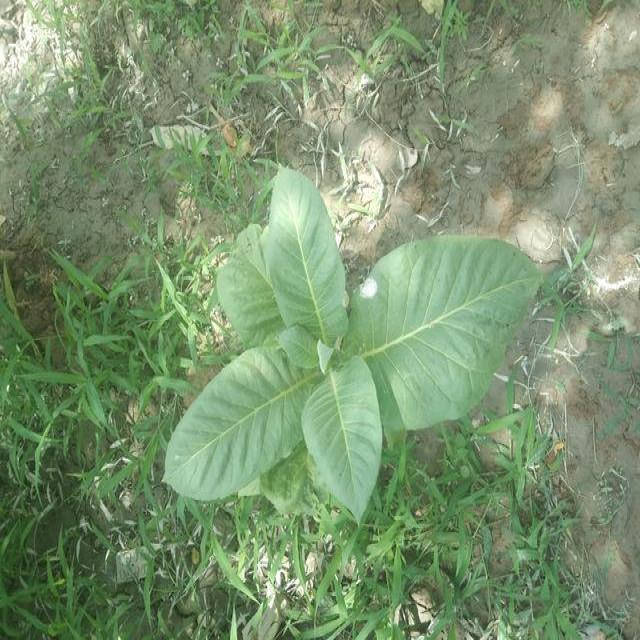crop: (162, 168, 540, 528)
